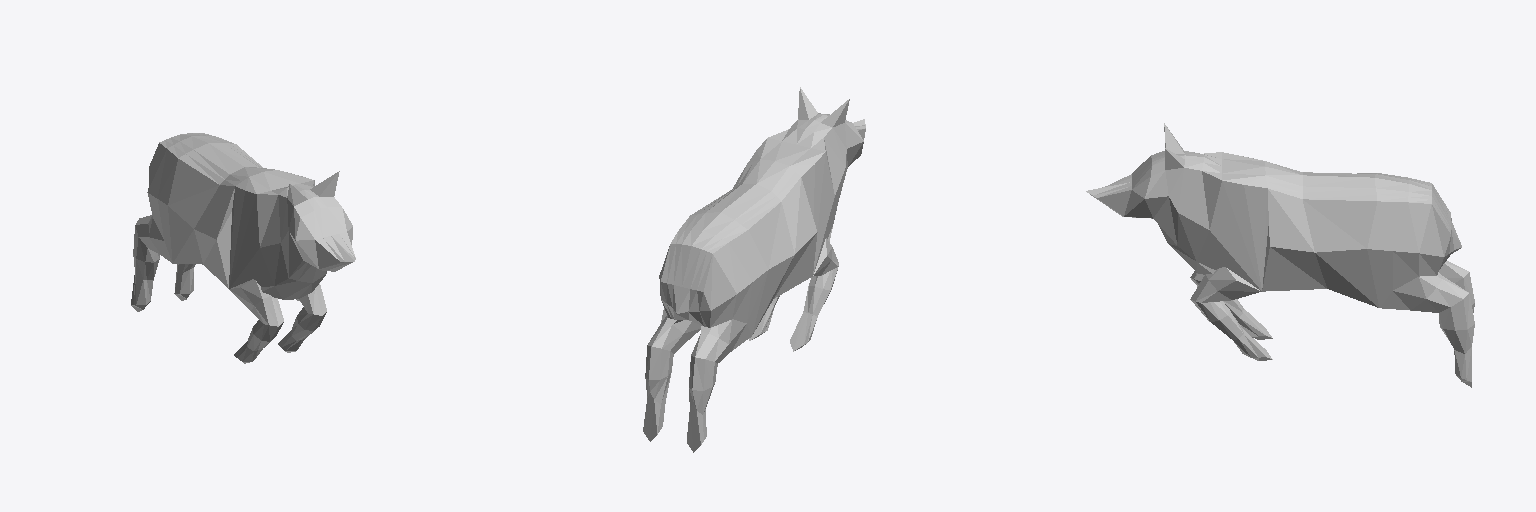
Rendered from piesblendtex_000025.obj.
3 views of the same model, side by side, from view 1: azimuth 30°, elevation 25°; view 2: azimuth 150°, elevation 25°; view 3: azimuth 270°, elevation 25° (orthographic).
Parts seen in each view (by area): view 1: Cube; view 2: Cube; view 3: Cube.
Part boxes in pixels (left/top/right/bottom): Cube: left=131, top=133, right=355, bottom=363; Cube: left=643, top=87, right=865, bottom=452; Cube: left=1086, top=123, right=1474, bottom=387.
Size of the model in its own units: 2.56 by 6.67 by 9.72.